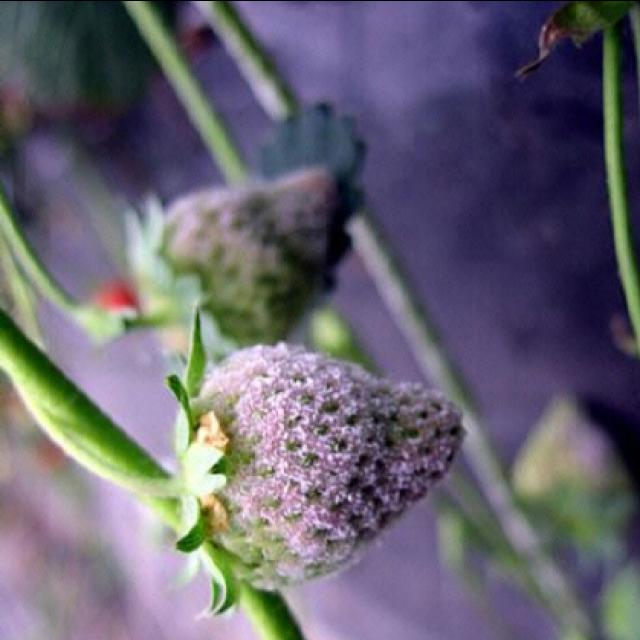Powdery Mildew Fruit: (175, 344, 465, 585), (137, 169, 350, 361)
